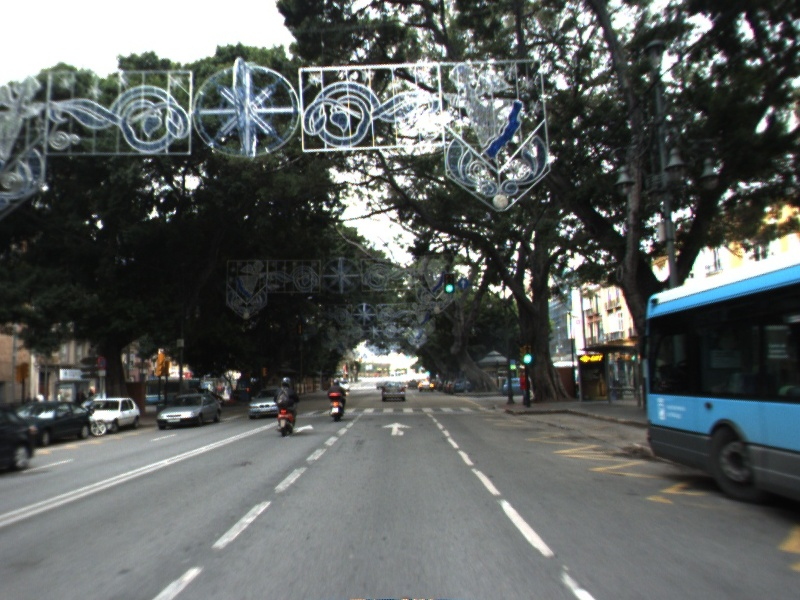STRAIGHT: (380, 421, 415, 438)
